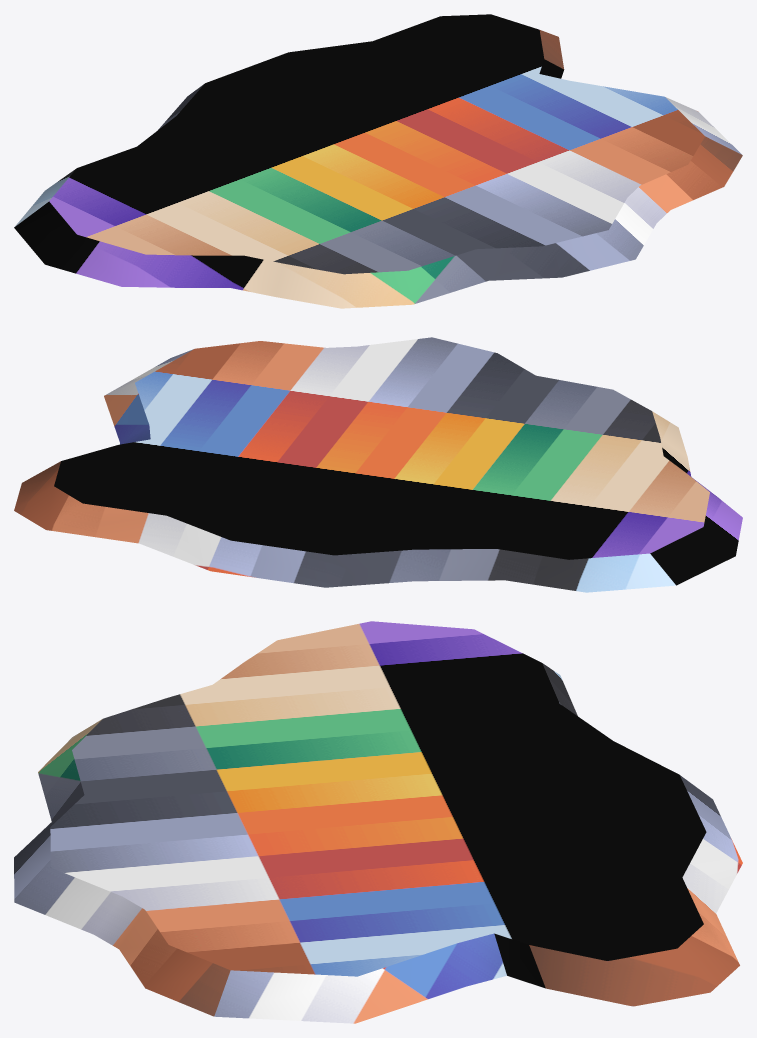
File: SM_PatchSand_A.fbx
3 renders of one model, top to bottom at view 1: azimuth 30°, elevation 25°; view 2: azimuth 150°, elevation 25°; view 3: azimuth 270°, elevation 25°, orthographic. The views are drawn at different scales.
Parts seen in each view (by area): view 1: patch-sand; view 2: patch-sand; view 3: patch-sand.
Part boxes in pixels (<box>): patch-sand: <box>14,14,742,308</box>; patch-sand: <box>14,337,742,592</box>; patch-sand: <box>14,621,742,1023</box>.
Size of the model in its own units: 341 by 11.03 by 266.
